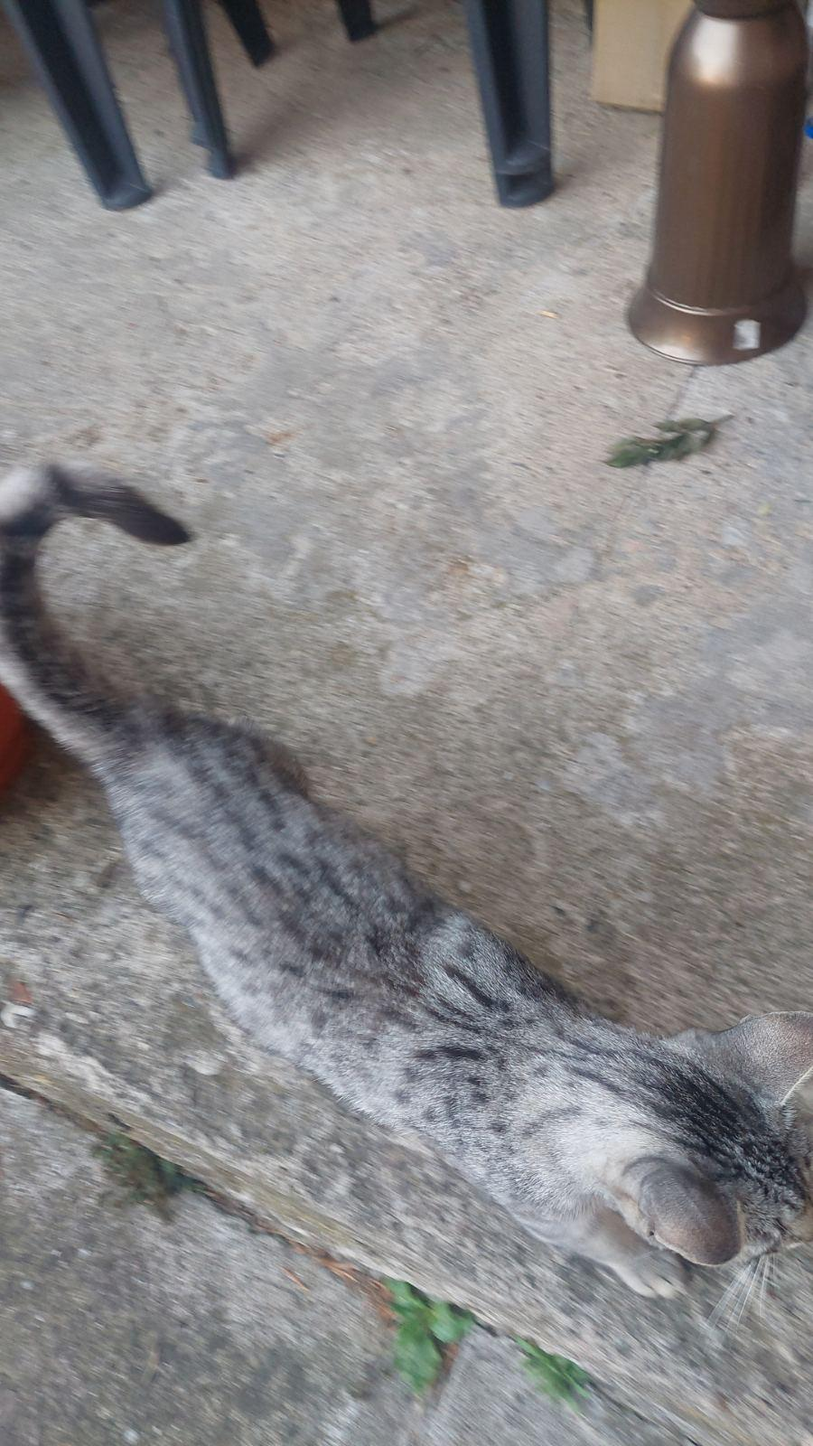macka: (0, 461, 812, 1296)
